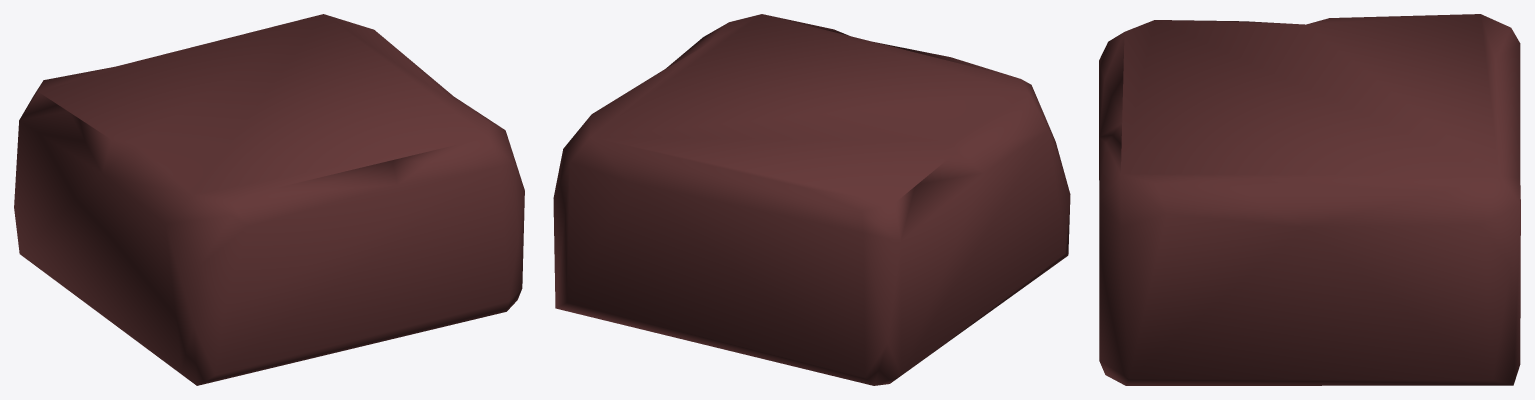
The model's file is SM_large_brick_04.fbx.
The picture shows the model from 3 angles, left to right: view 1: azimuth 30°, elevation 25°; view 2: azimuth 150°, elevation 25°; view 3: azimuth 270°, elevation 25°; orthographic projection. The views are drawn at different scales.
Parts seen in each view (by area): view 1: large_brick_04; view 2: large_brick_04; view 3: large_brick_04.
Part boxes in pixels (left/top/right/bottom): large_brick_04: left=14, top=14, right=524, bottom=385; large_brick_04: left=553, top=14, right=1070, bottom=385; large_brick_04: left=1099, top=14, right=1520, bottom=385.
Bounding box in the file's own units: 79.36 × 38.95 × 75.23.
